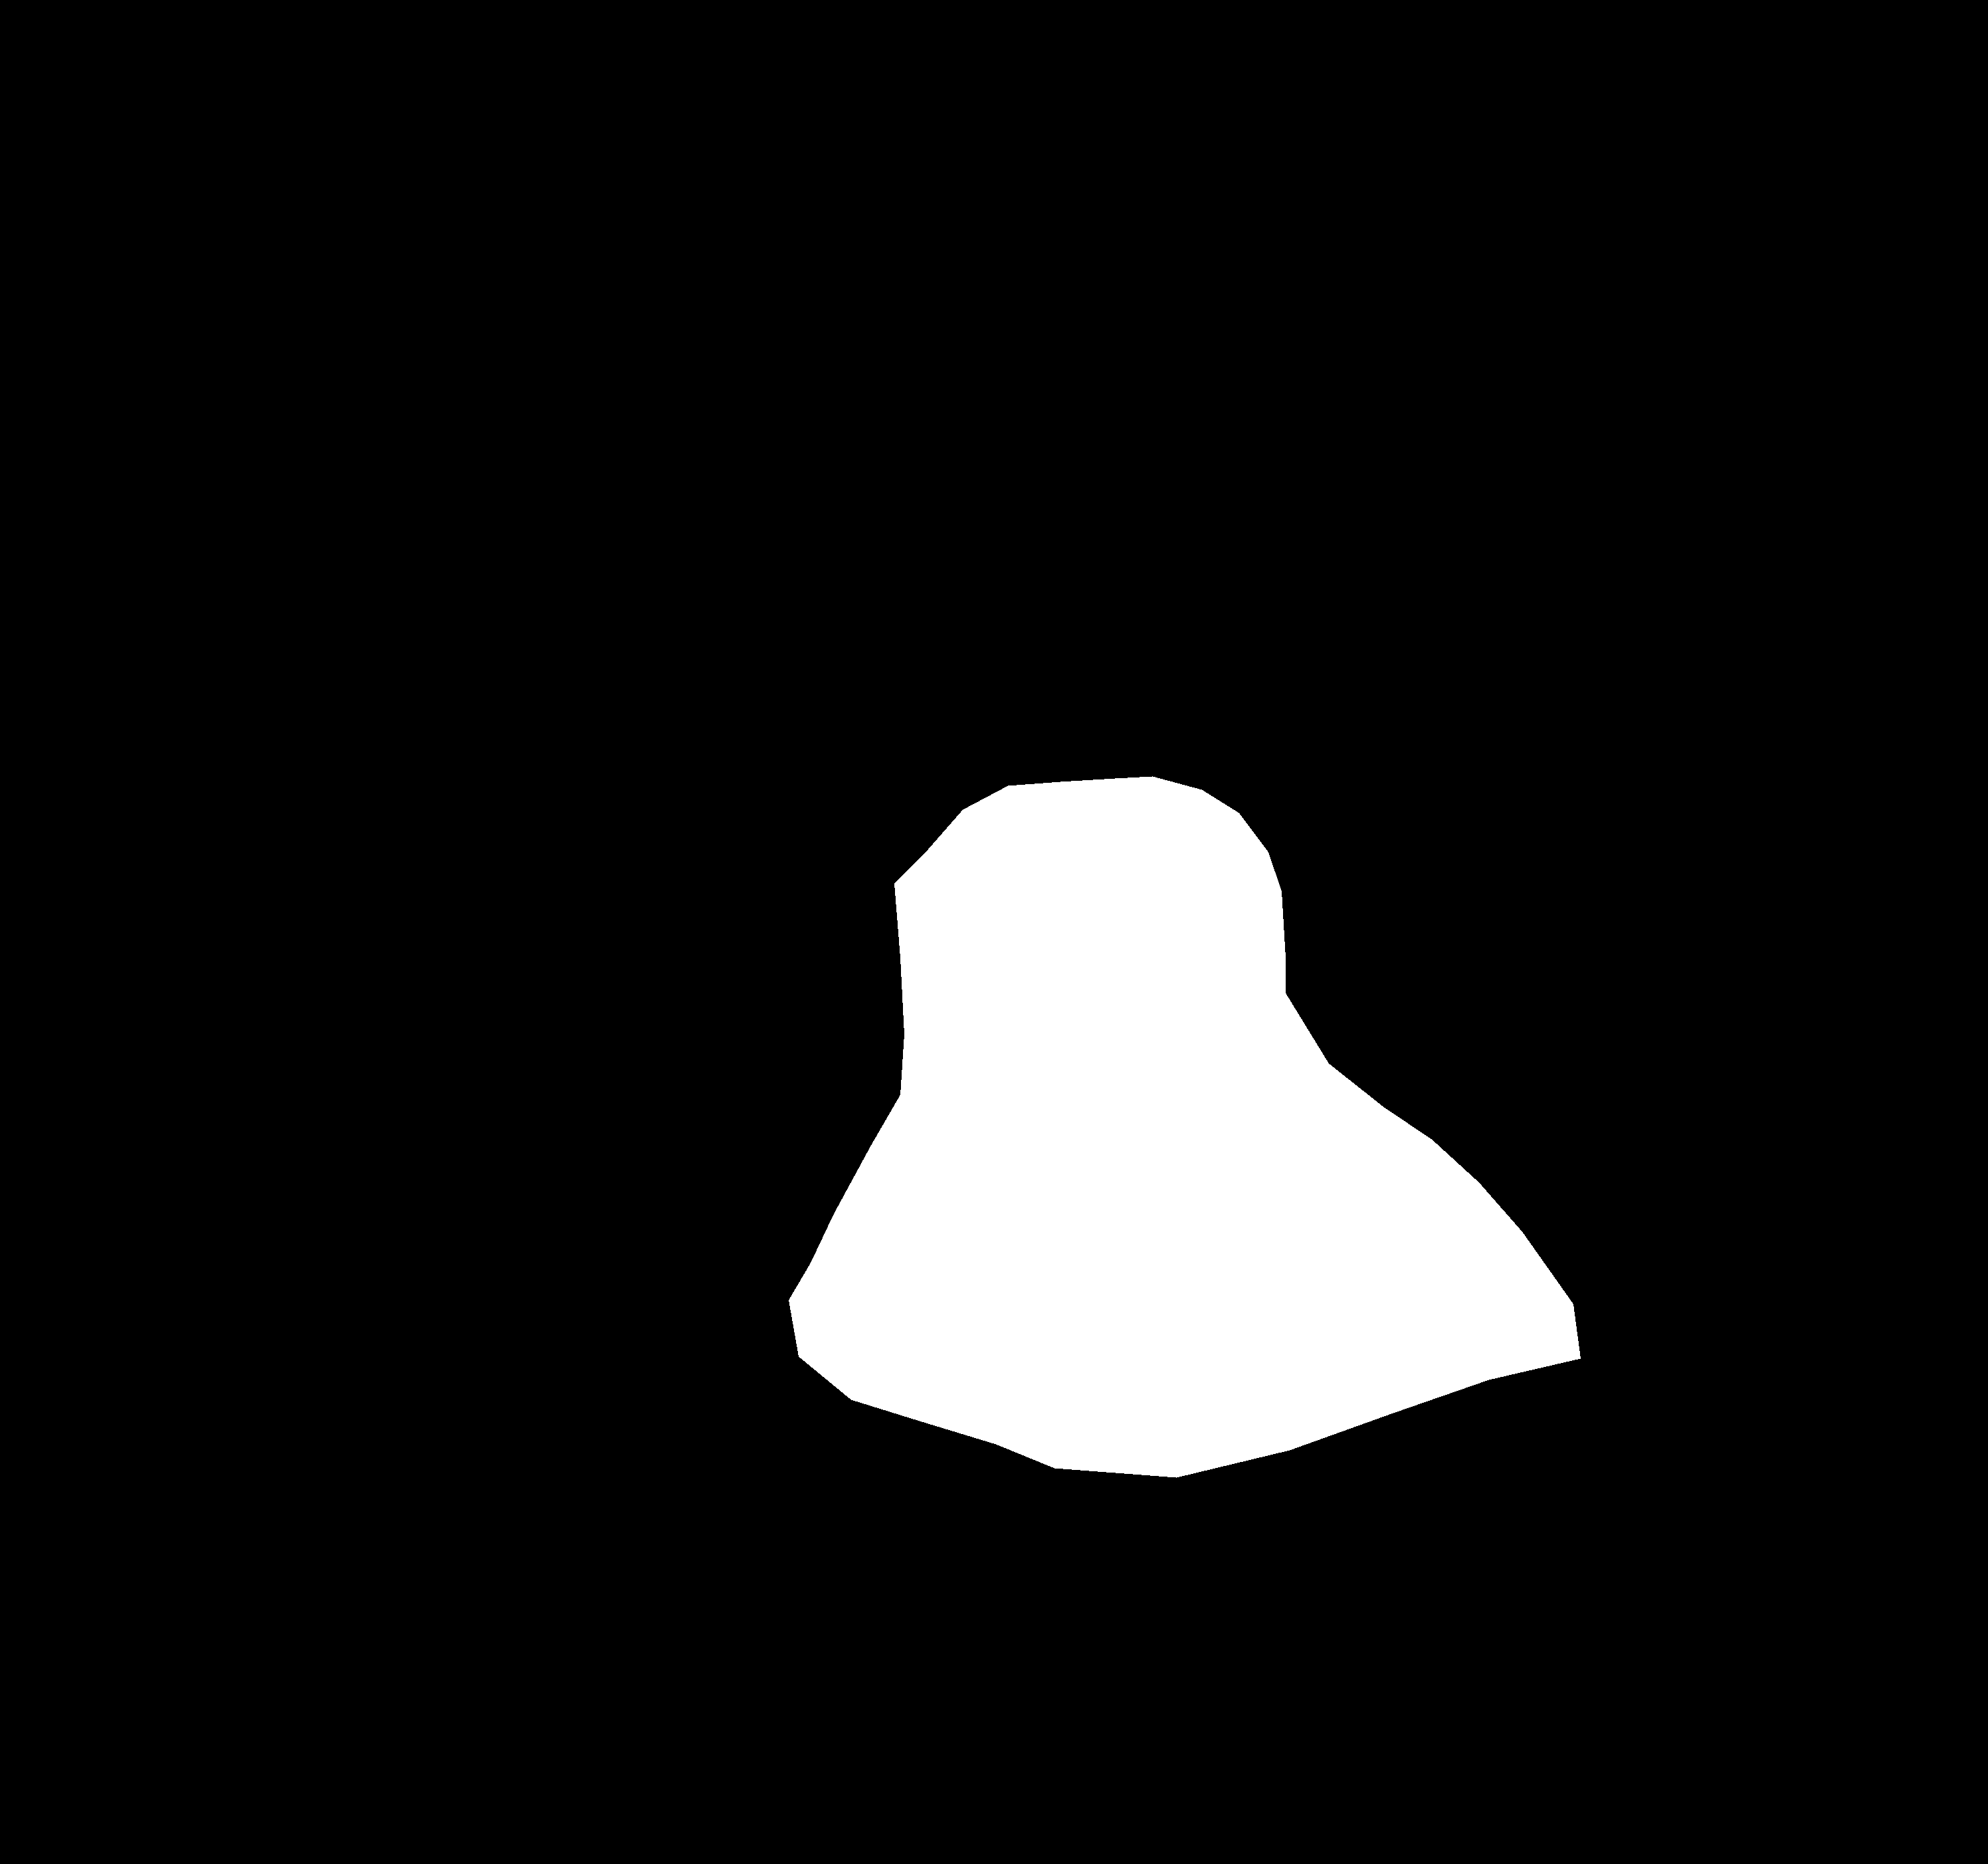heart: (788, 776, 1580, 1477)
left_lung: (280, 205, 1012, 1556)
right_lung: (1212, 214, 1862, 1487)
